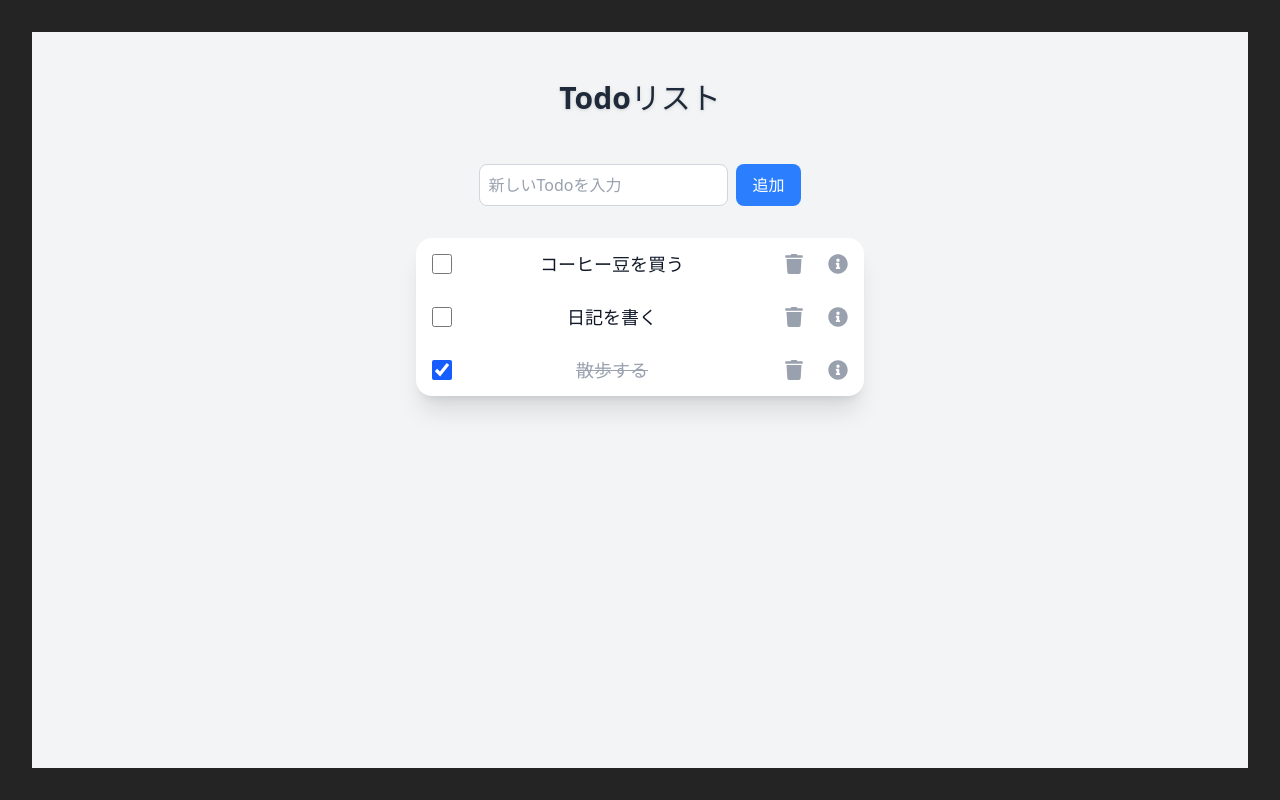
it: Todoを追加できる
The image size is (1280, 800).
Check: the text "テストを実施する" is not shown
Type "テストを実施する" into the field with placeholder "新しいTodoを入力". click: (604, 185)
box: [480, 164, 728, 206]
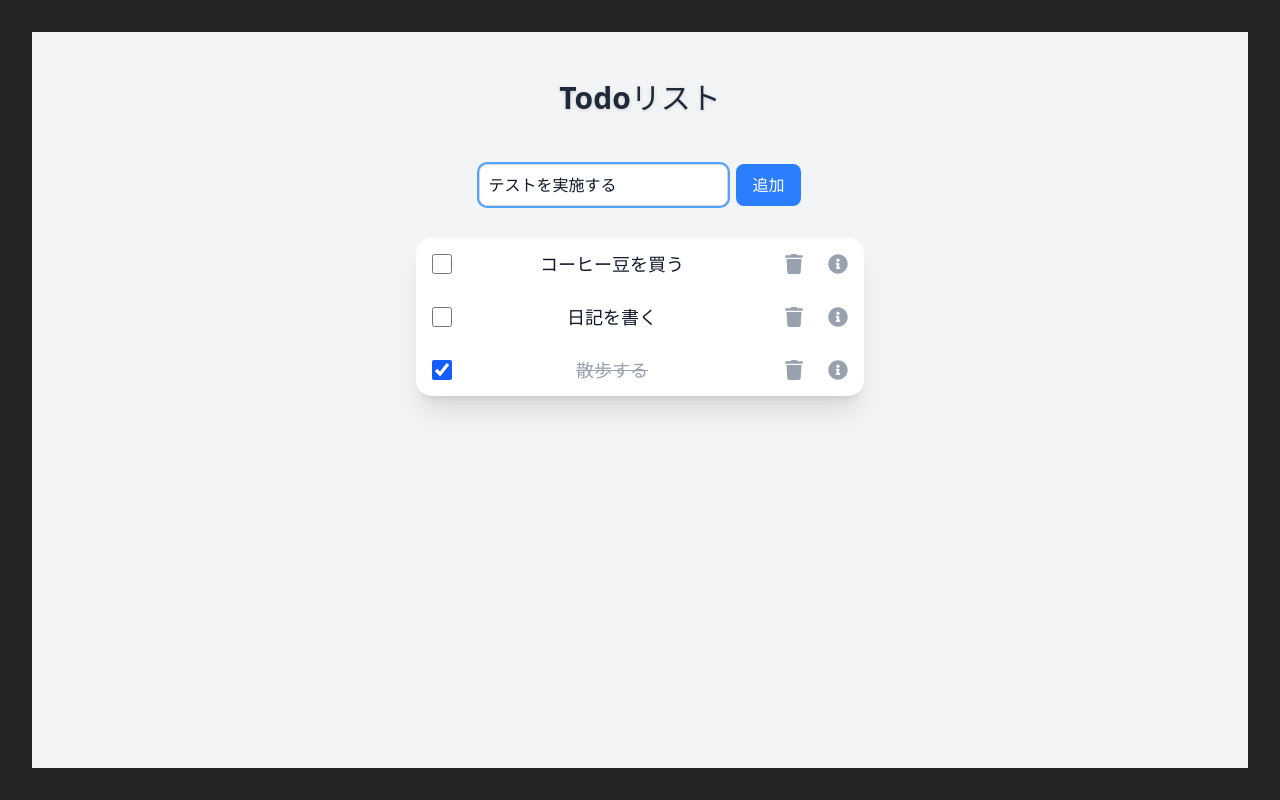
Click the button "追加". click: (768, 185)
box: [736, 164, 800, 206]
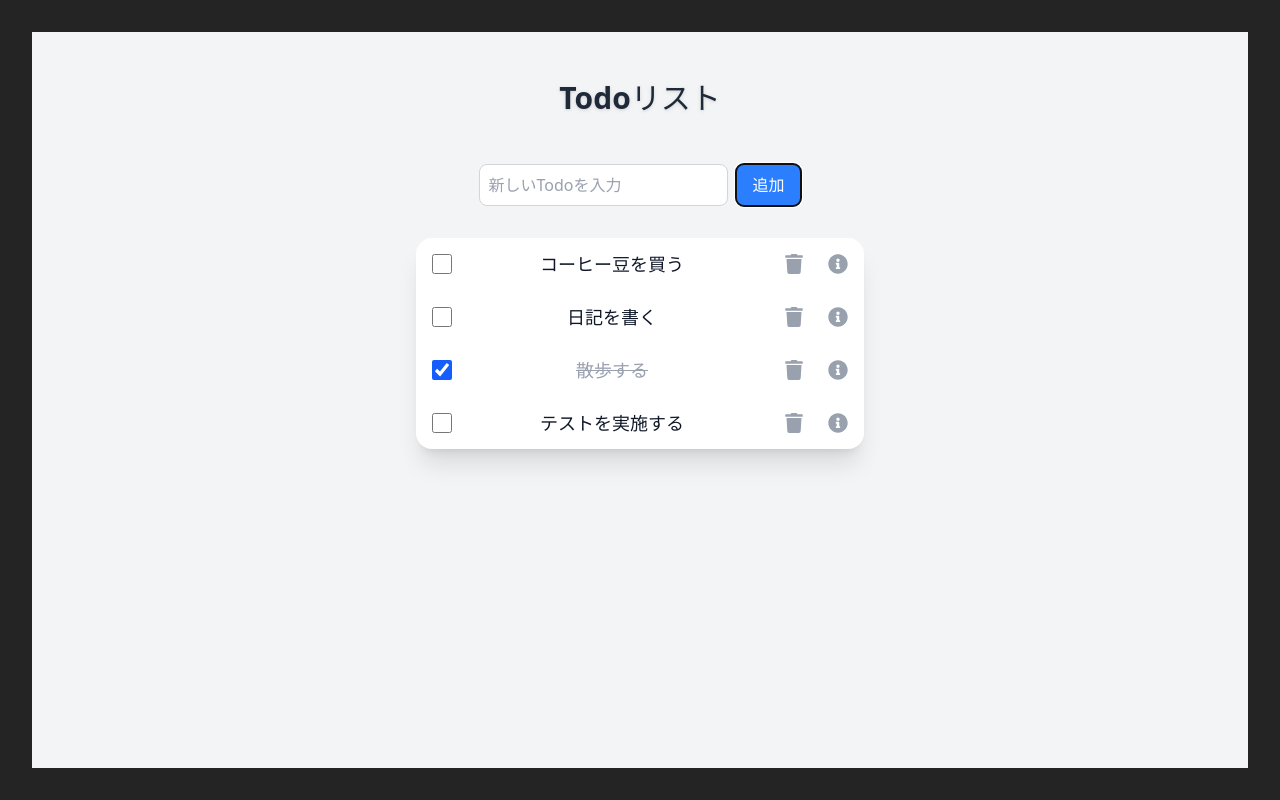
Check: the text "テストを実施する" is shown, box [540, 411, 684, 435]
